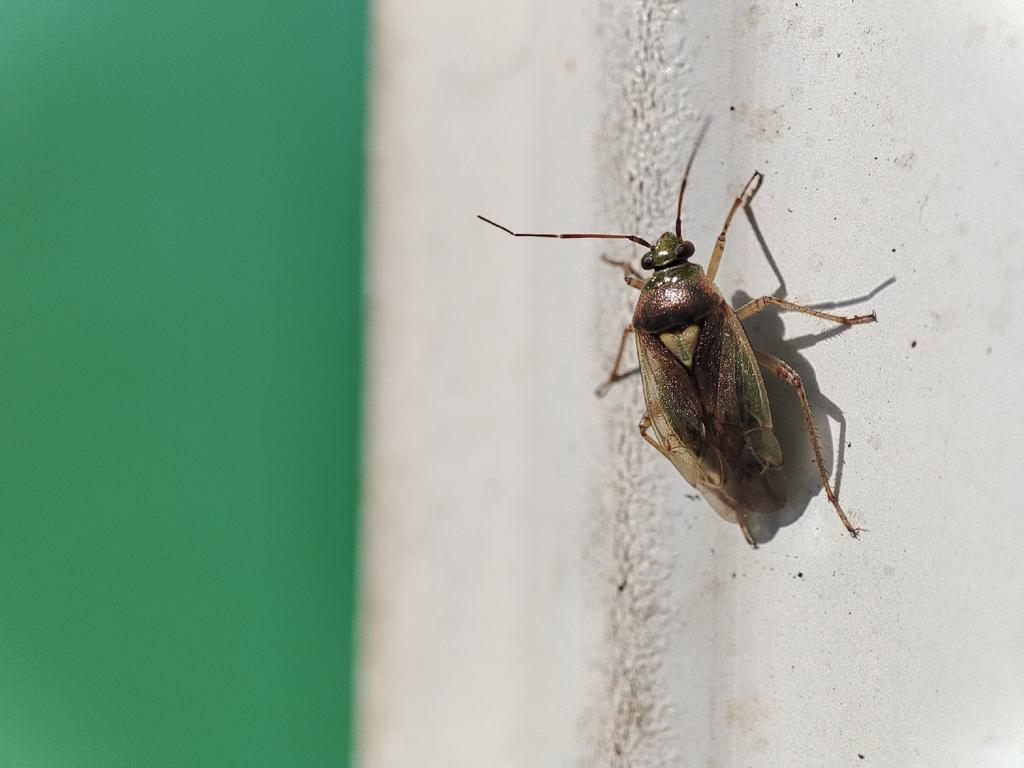plant_bugs: (435, 81, 931, 606)
